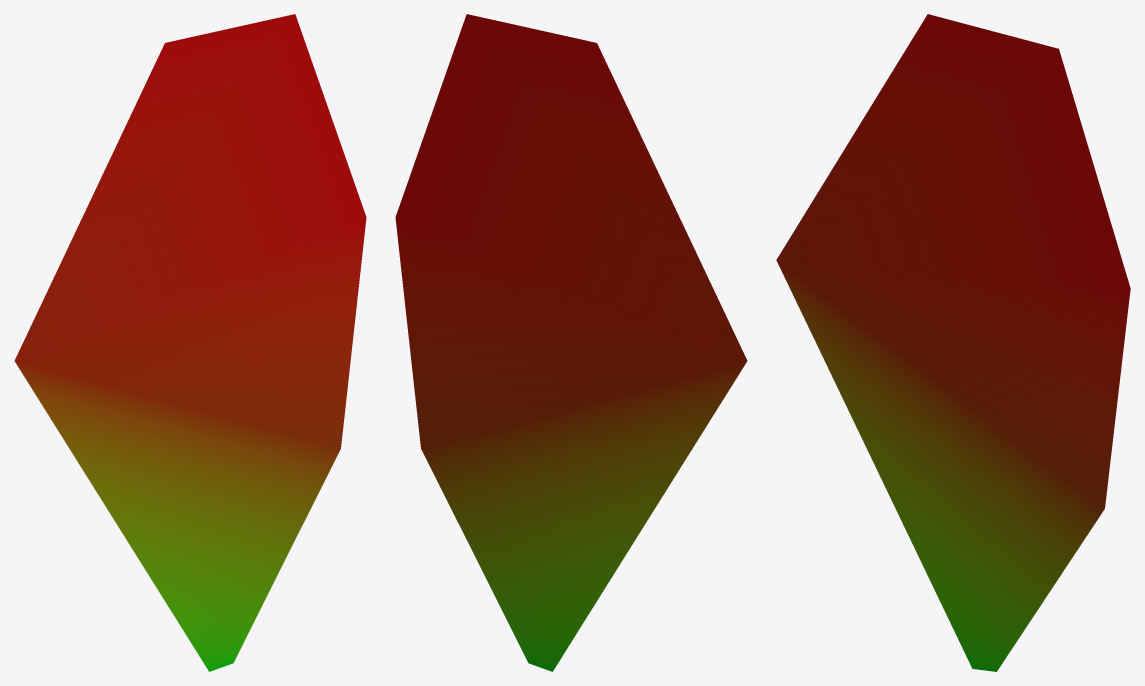
The model's file is Var14_LOD4.fbx.
3 renders of one model, left to right at view 1: azimuth 30°, elevation 25°; view 2: azimuth 150°, elevation 25°; view 3: azimuth 330°, elevation 25°, orthographic.
Parts seen in each view (by area): view 1: _dr0h_Var14_LOD4; view 2: _dr0h_Var14_LOD4; view 3: _dr0h_Var14_LOD4.
Boxes of the visible parts, <box> form: _dr0h_Var14_LOD4: <box>14,14,366,671</box>; _dr0h_Var14_LOD4: <box>395,14,747,671</box>; _dr0h_Var14_LOD4: <box>776,14,1130,671</box>.
Size of the model in its own units: 18.07 by 31.38 by 1.37e-06.
